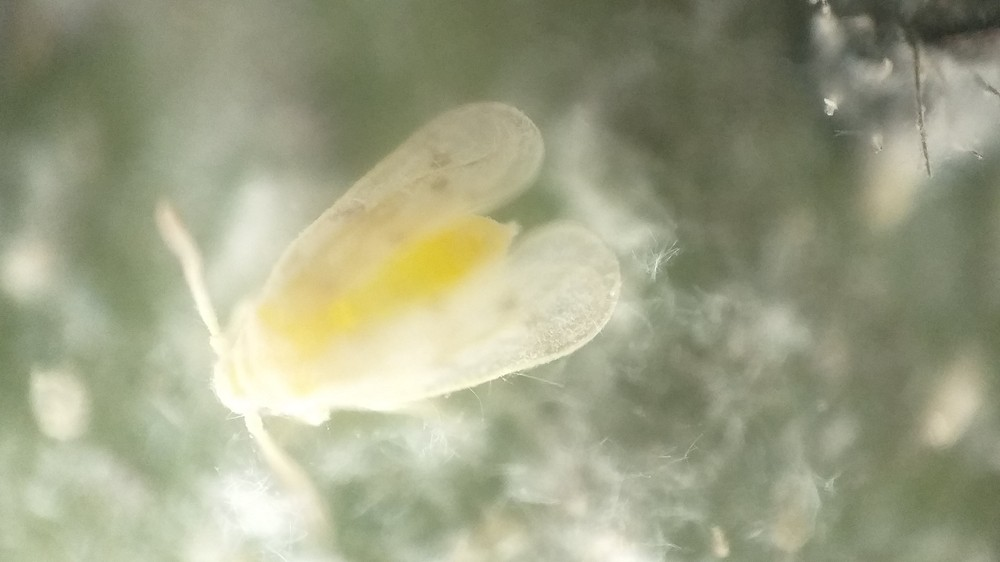Mosca Blanca: (142, 93, 634, 549)
